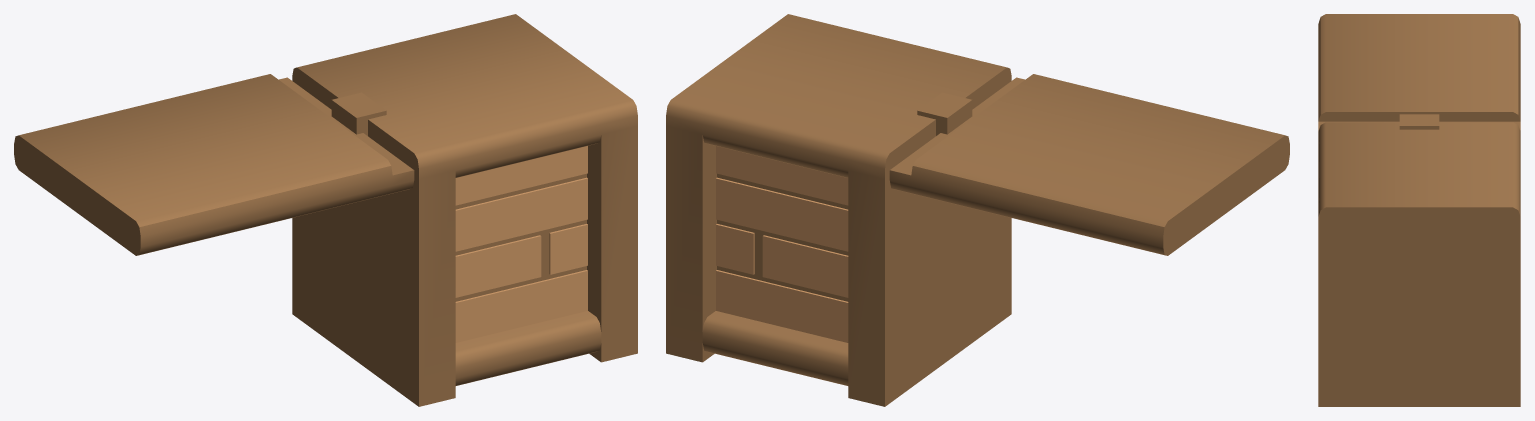
Rendered from Counter Door.glb.
3 views of the same model, side by side, from view 1: azimuth 30°, elevation 25°; view 2: azimuth 150°, elevation 25°; view 3: azimuth 270°, elevation 25° (orthographic). The views are drawn at different scales.
Parts seen in each view (by area): view 1: Environment_Counter_Door; view 2: Environment_Counter_Door; view 3: Environment_Counter_Door.
Boxes of the visible parts, x1,y1,x2,y2 form: Environment_Counter_Door: (14,14,637,406); Environment_Counter_Door: (666,14,1289,406); Environment_Counter_Door: (1318,14,1520,406).
Size of the model in its own units: 4 by 1.96 by 1.77.
Materials: 1 (1 with a texture image).
